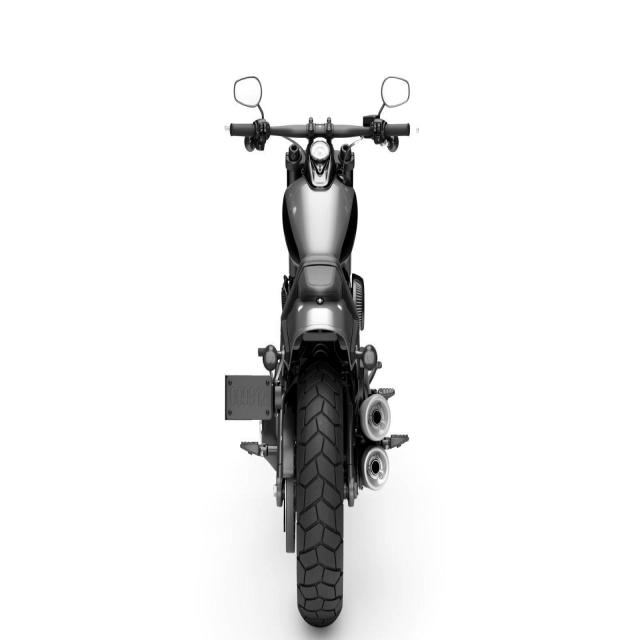Motorcycle: (226, 75, 410, 627)
